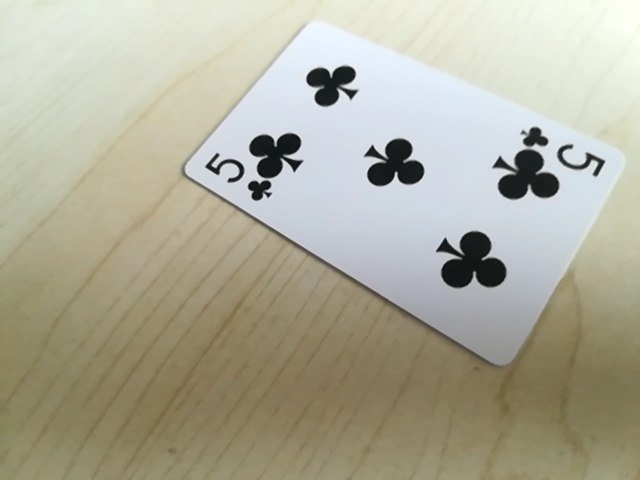mh 5: (520, 128, 607, 175), (199, 152, 279, 203)
